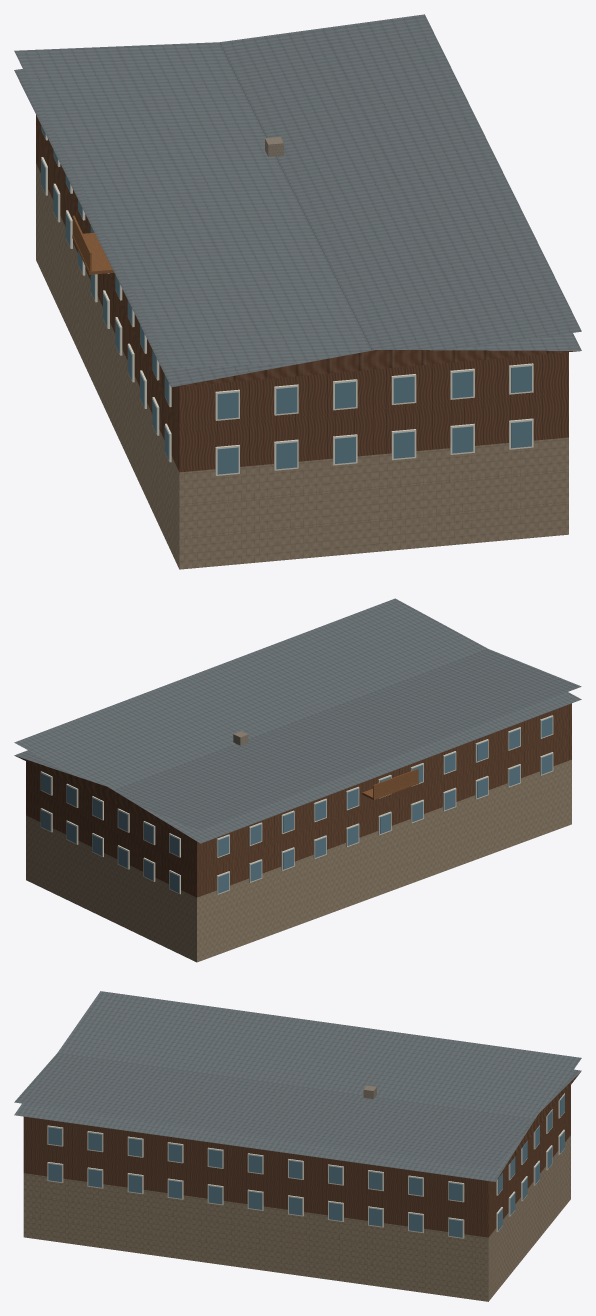
File: core_0015.gltf
3 views of the same model, one above another, from view 1: azimuth 30°, elevation 25°; view 2: azimuth 150°, elevation 25°; view 3: azimuth 270°, elevation 25° (orthographic). The views are drawn at different scales.
Parts seen in each view (by area): view 1: core_0015; view 2: core_0015; view 3: core_0015.
Boxes of the visible parts, x1,y1,x2,y2 form: core_0015: [14, 14, 581, 569]; core_0015: [14, 598, 581, 962]; core_0015: [14, 991, 581, 1301].
Bounding box in the file's own units: 29.91 × 10.85 × 40.29.
7 materials, 7 textured.
